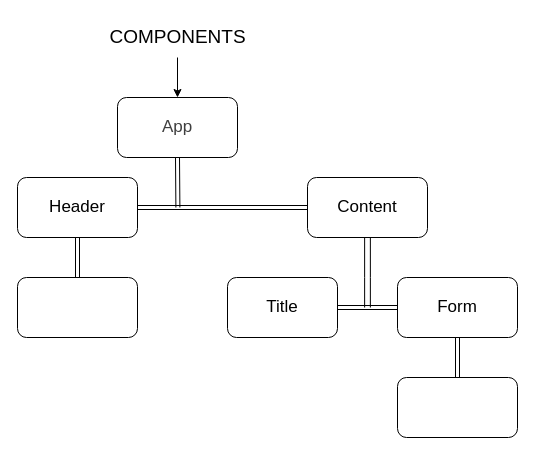
Some shapes in this 535 by 455 pixel diagram are drawn without their labels. Each missing label, with the centre of its shape:
Menu: the point at 77,307
TextInput: the point at 457,407
